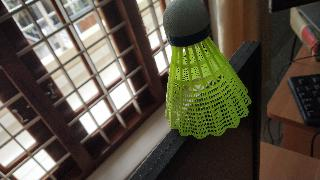shuttlecock: (163, 0, 251, 138)
